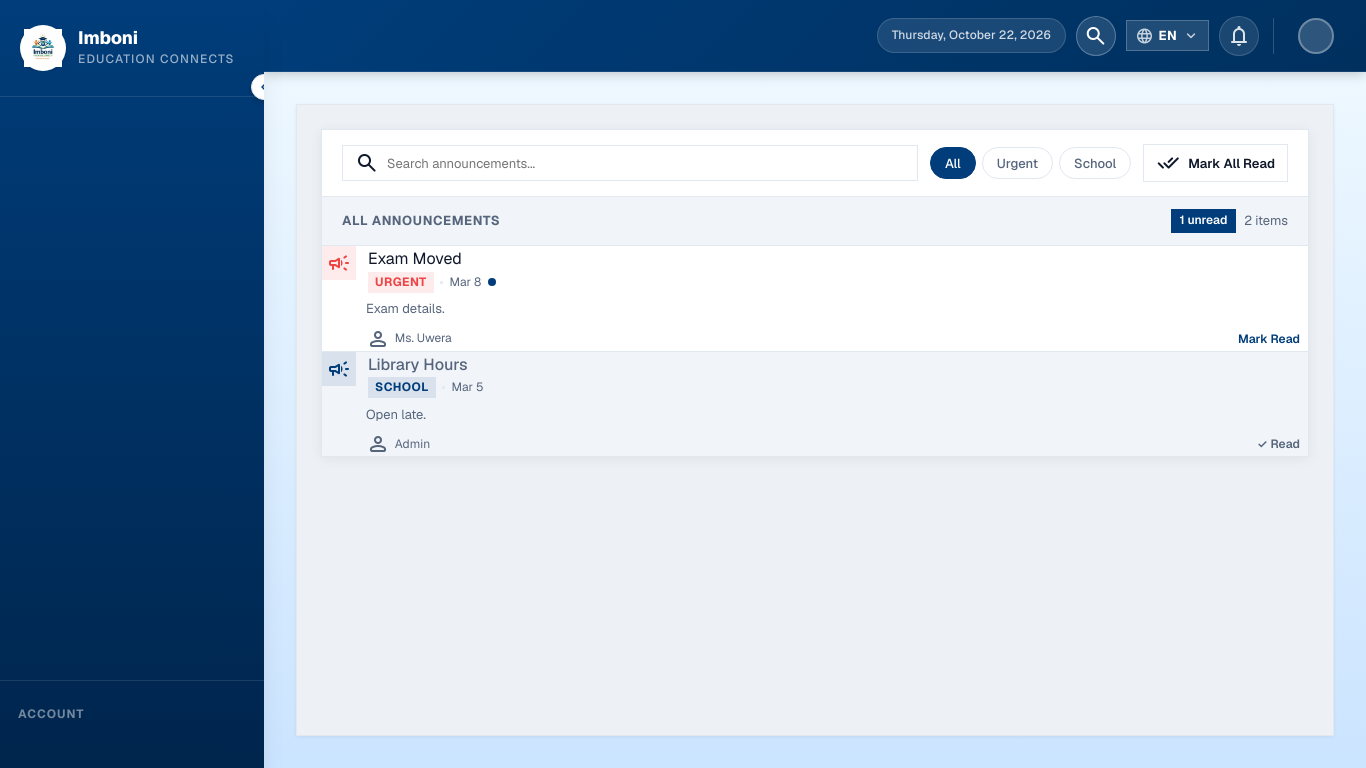
Test: AnnouncementFeed › opens the detail modal when an announcement is clicked
Click the text "Exam Moved" at (415, 258), box [368, 248, 462, 269]
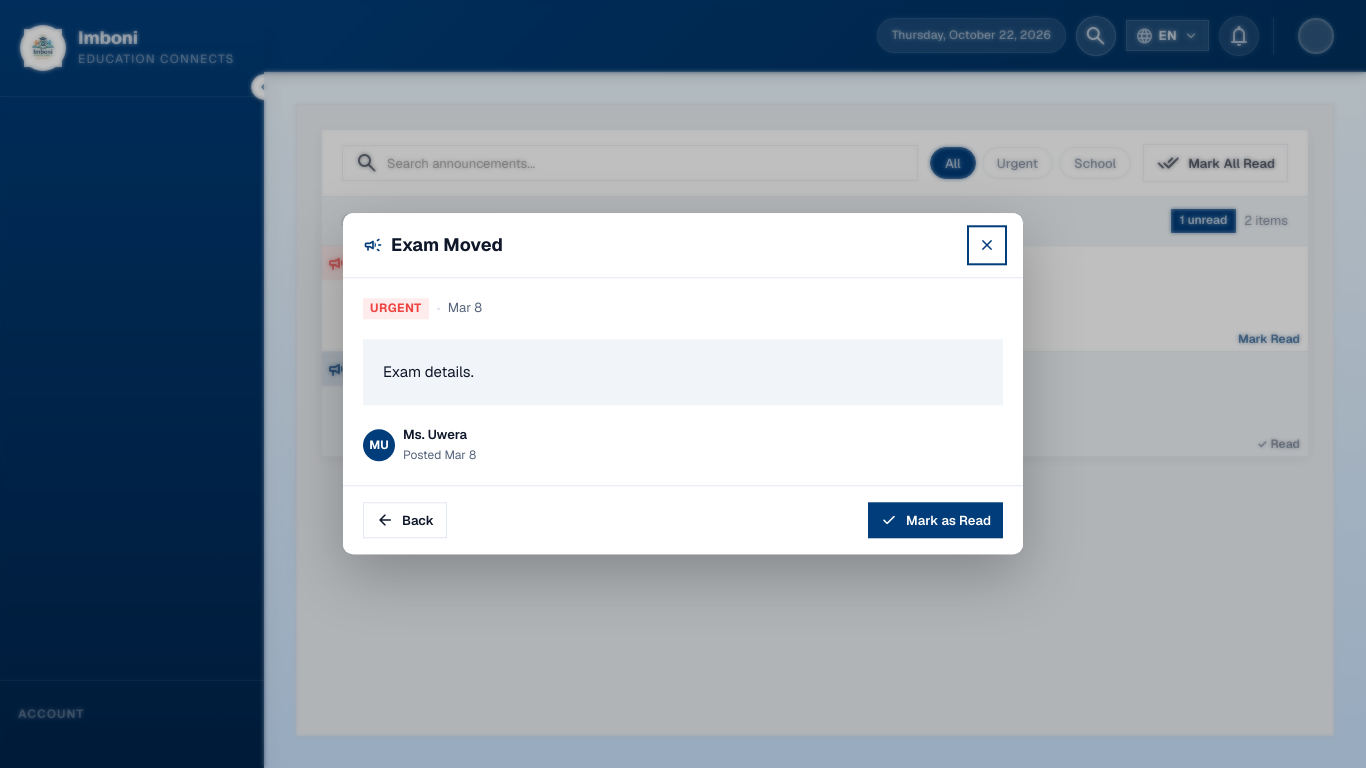
Now the text "Exam details." is shown, box [363, 340, 1003, 406]
Now the text "Ms. Uwera" is shown, box [403, 426, 476, 446]
